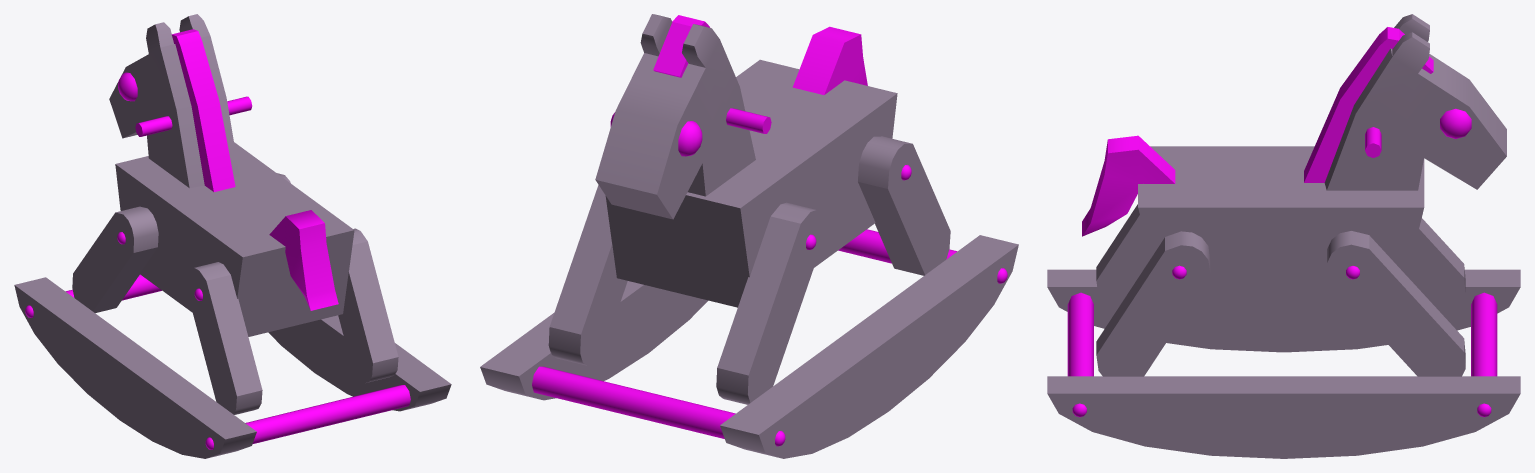
Rendered from RockingHorse.fbx.
The picture shows the model from 3 angles, left to right: view 1: azimuth 30°, elevation 25°; view 2: azimuth 150°, elevation 25°; view 3: azimuth 270°, elevation 25°; orthographic projection. The views are drawn at different scales.
Parts seen in each view (by area): view 1: HORSE, ColorBits; view 2: HORSE, ColorBits; view 3: HORSE, ColorBits.
Part boxes in pixels (x1=…): HORSE: x1=14, y1=14, x2=451, y2=458; ColorBits: x1=25, y1=29, x2=410, y2=449; HORSE: x1=480, y1=14, x2=1018, y2=458; ColorBits: x1=532, y1=15, x2=1007, y2=446; HORSE: x1=1047, y1=14, x2=1520, y2=458; ColorBits: x1=1067, y1=27, x2=1497, y2=417.
Size of the model in its own units: 4.21 by 5.69 by 6.56.
Materials: 1 (1 with a texture image).
